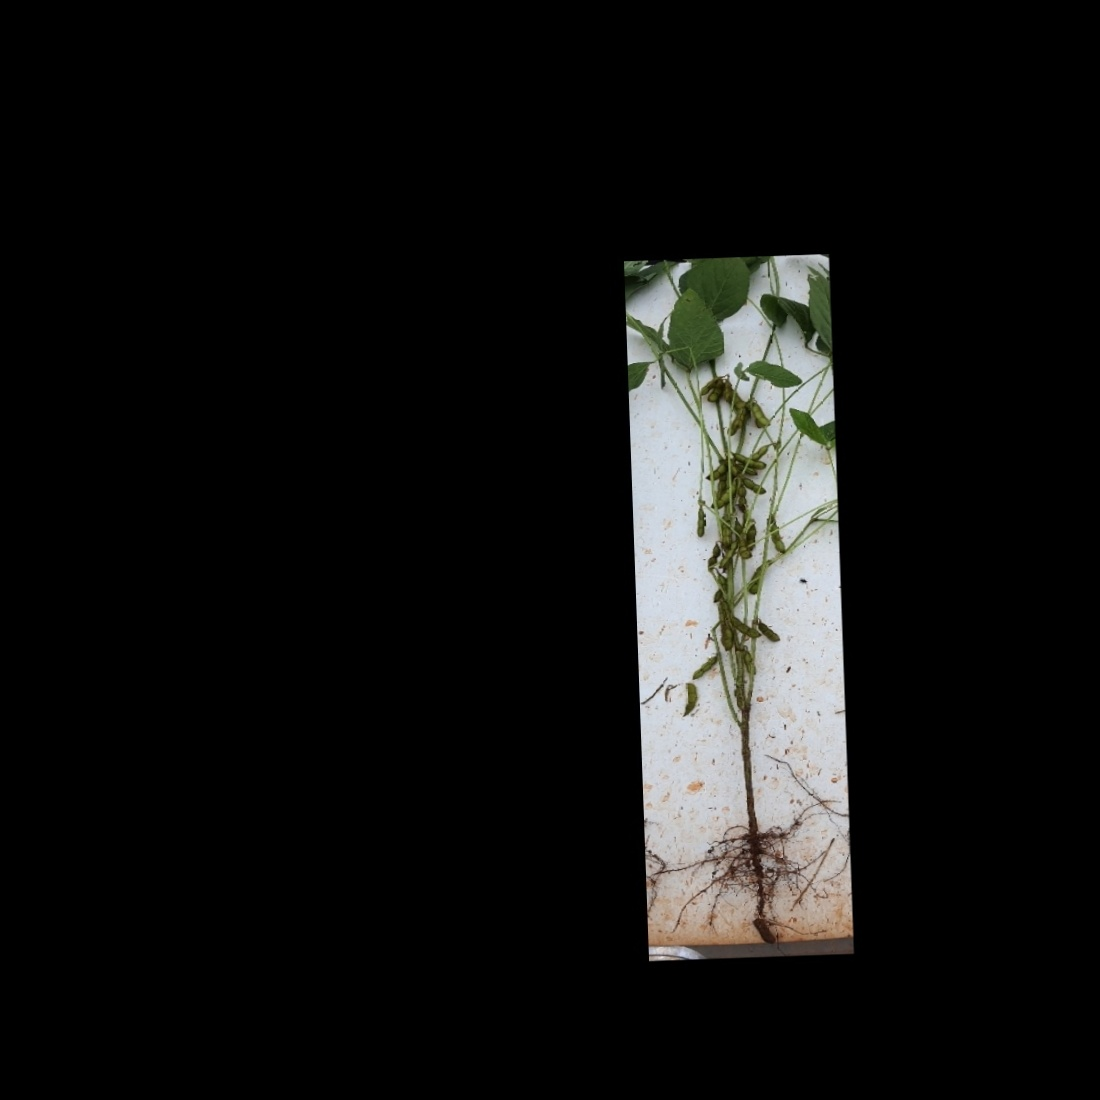pod: (764, 511, 791, 557), (714, 535, 744, 573), (676, 680, 703, 718), (690, 505, 715, 541), (687, 652, 719, 680), (750, 617, 785, 644), (728, 451, 770, 472), (726, 616, 762, 641), (748, 396, 773, 431), (704, 376, 730, 406), (737, 472, 770, 497)
soy: (625, 263, 844, 891)
